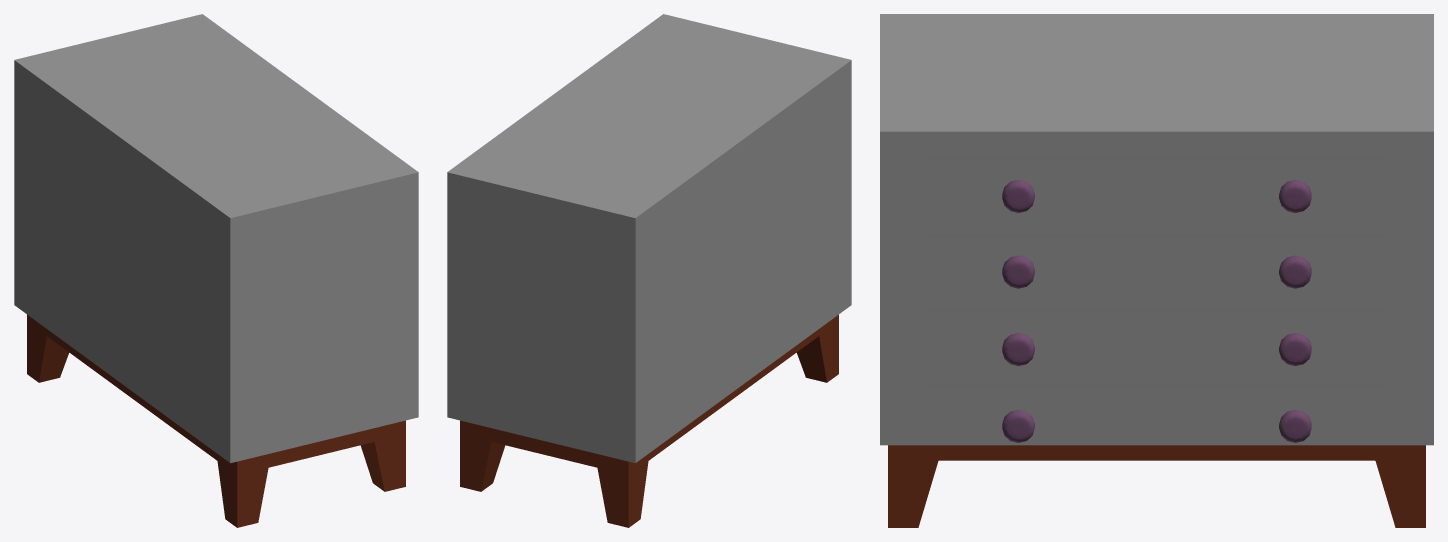
Rendered from Room_01.fbx.
3 views of the same model, side by side, from view 1: azimuth 30°, elevation 25°; view 2: azimuth 150°, elevation 25°; view 3: azimuth 270°, elevation 25° (orthographic). The views are drawn at different scales.
Visible parts, largest first — view 1: Plane.004; view 2: Plane.004; view 3: Plane.004.
Boxes of the visible parts, left/top/right/bottom form: Plane.004: left=14, top=14, right=418, bottom=527; Plane.004: left=447, top=14, right=851, bottom=527; Plane.004: left=880, top=14, right=1433, bottom=527.
Size of the model in its own units: 108 by 161 by 201.
